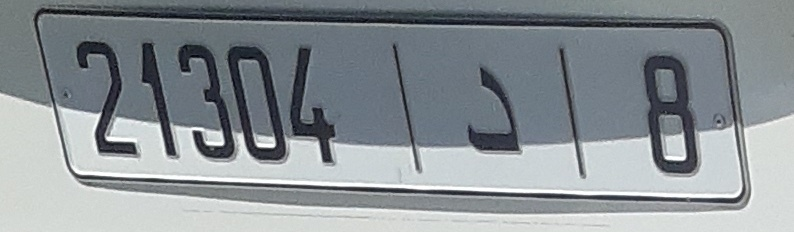0: (227, 36, 285, 167)
1: (132, 37, 184, 172)
2: (69, 29, 141, 167)
3: (180, 44, 239, 162)
4: (286, 33, 343, 176)
8: (635, 51, 709, 182)
d: (447, 57, 545, 168)
